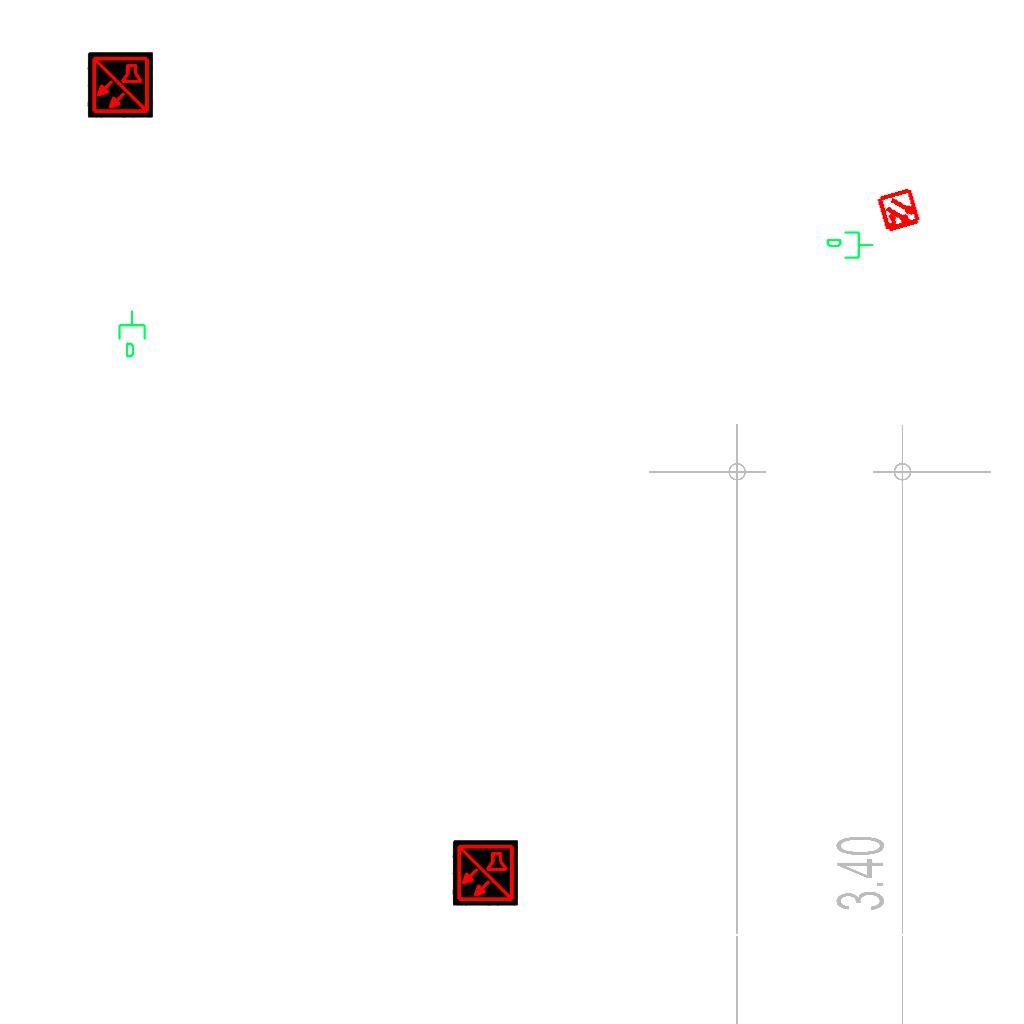Datenanschluss_einfach: (825, 229, 875, 263), (116, 309, 150, 359)
OKW_Multisensormelder_(Kombination_optischer_Rauch-Kahlenmonoxid_Waerme-Melder): (452, 840, 518, 906), (87, 52, 153, 118)
OT_Multisensormelder_(Kombination_RMO_WMD): (864, 176, 934, 246)
